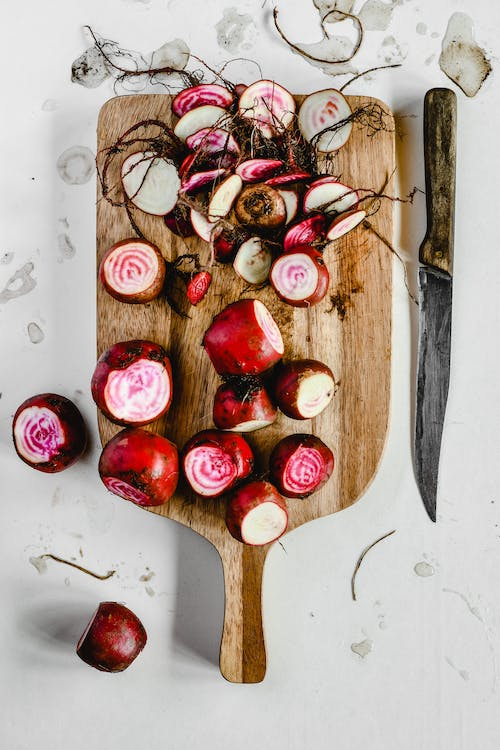knife: (407, 86, 461, 526)
